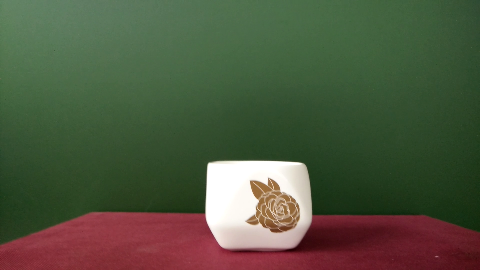flower: (242, 177, 302, 236)
